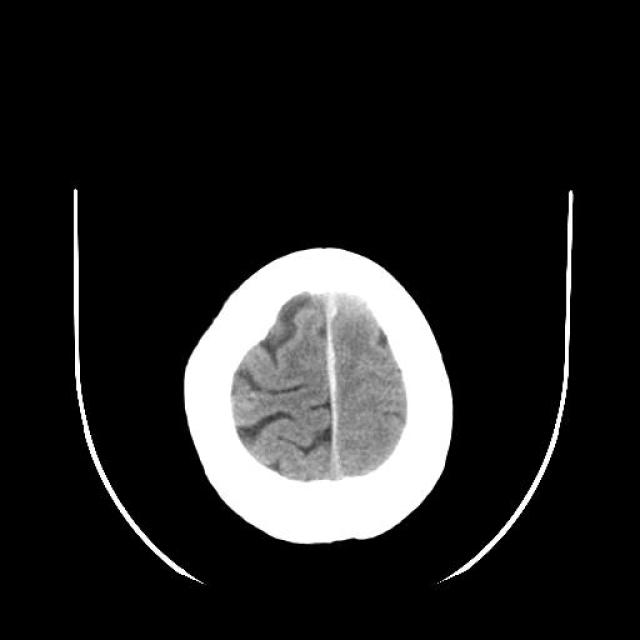Subdural: (297, 294, 368, 488)
